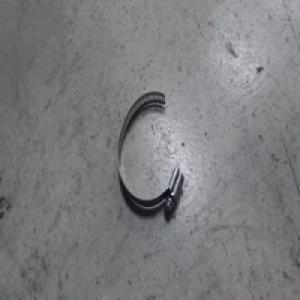AdjustableClamp: (117, 91, 184, 218)
